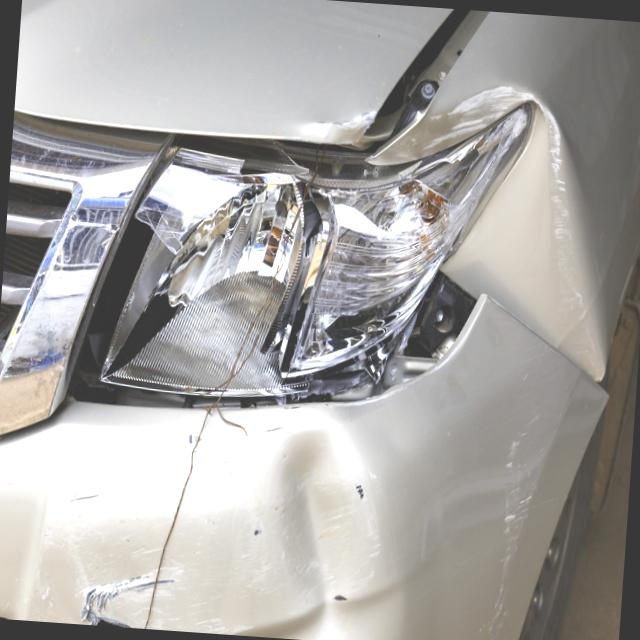Cabossage: (263, 421, 417, 640)
Dechirure: (77, 570, 179, 631), (0, 577, 18, 619)
Phare abime: (40, 101, 515, 447)
Rayure: (437, 77, 608, 358), (484, 396, 541, 640), (67, 490, 112, 525)
